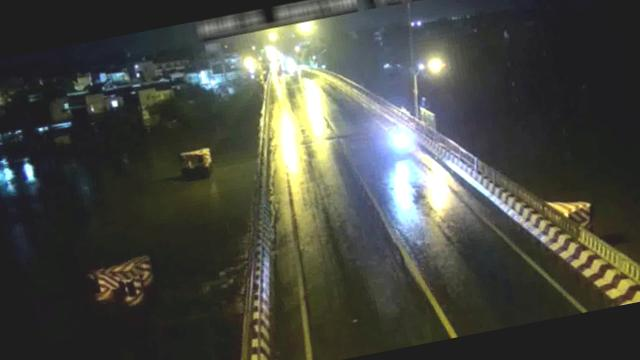Bike: (382, 123, 420, 157)
